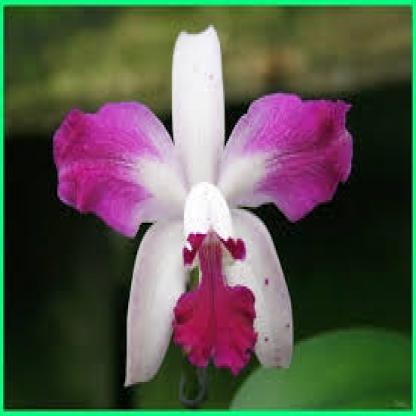ANGGREK: (39, 22, 366, 379)
